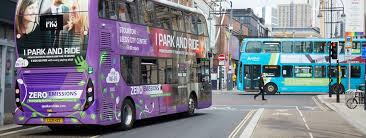bus: (12, 1, 214, 130), (236, 36, 366, 98)
